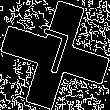L_S: (33, 26, 77, 84)
